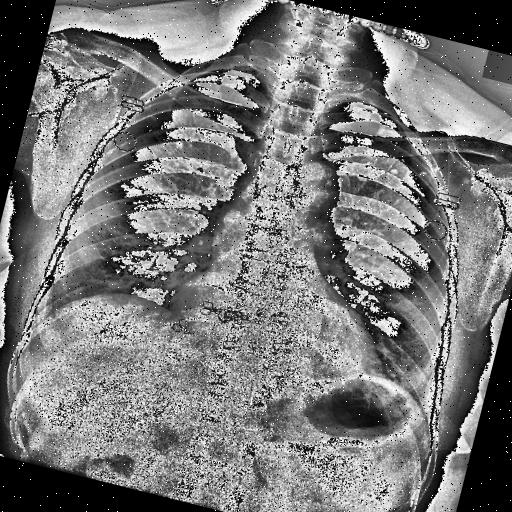0- Aortic enlargement: (212, 144, 348, 287)
3- Cardiomegaly: (162, 273, 394, 387)
8- Nodule-Mass: (388, 166, 400, 178), (196, 165, 206, 174), (146, 113, 156, 121), (174, 141, 182, 149), (356, 172, 364, 180)
9- Other lesion: (89, 80, 225, 179), (350, 148, 475, 210)
